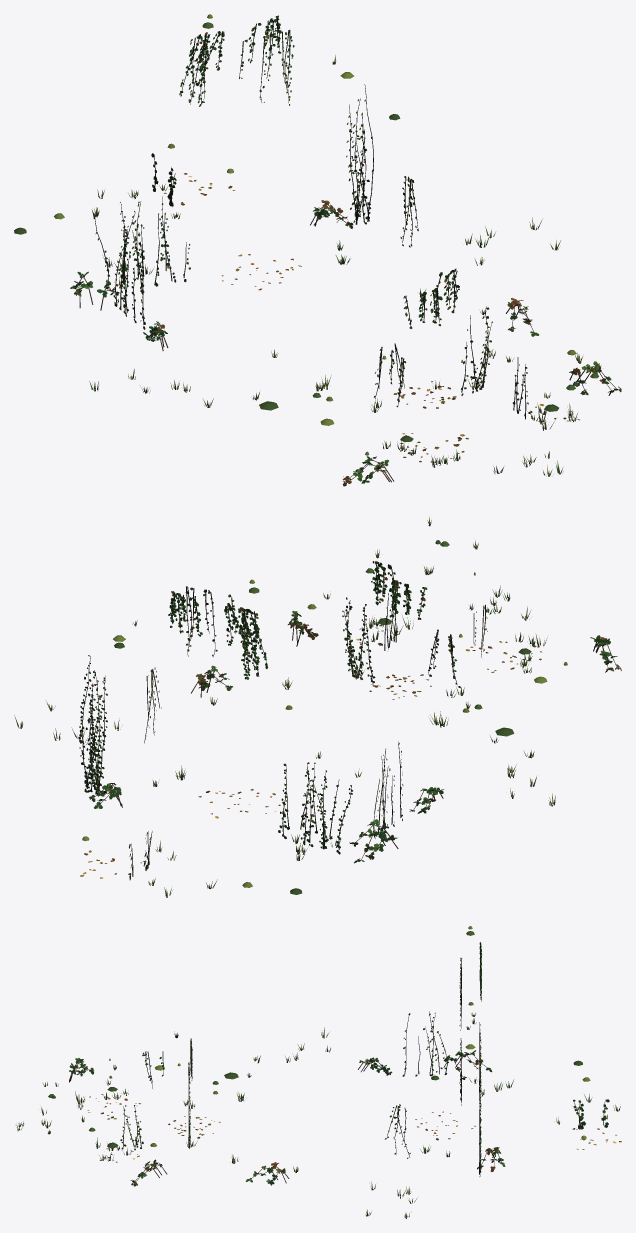
The model's file is hollow_crypt_entrance_growth.glb.
3 renders of one model, top to bottom at view 1: azimuth 30°, elevation 25°; view 2: azimuth 150°, elevation 25°; view 3: azimuth 270°, elevation 25°, orthographic. The views are drawn at different scales.
Parts seen in each view (by area): view 1: Entrance_Growth; view 2: Entrance_Growth; view 3: Entrance_Growth.
Part boxes in pixels (x1,y1,x2,y2): Entrance_Growth: (14,14,621,486); Entrance_Growth: (14,516,621,897); Entrance_Growth: (16,926,621,1218).
Size of the model in its own units: 32.83 by 16.11 by 45.71.
